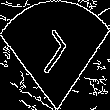L_SW: (34, 25, 76, 85)
